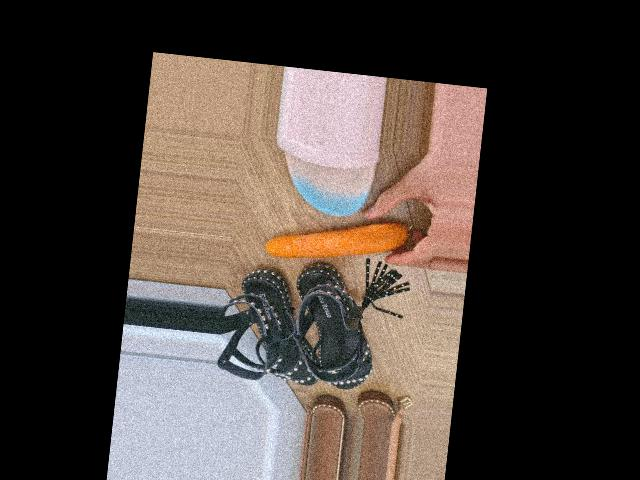carrot: (263, 208, 409, 272)
